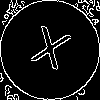X: (25, 25, 73, 80)
